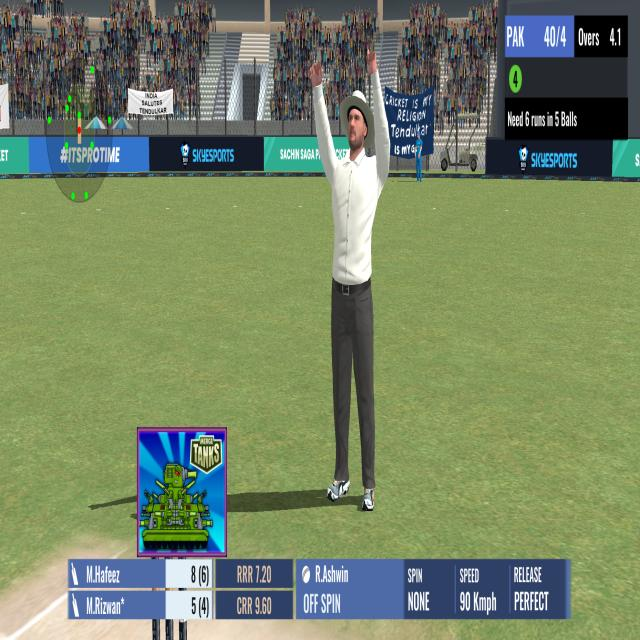billboard: (136, 423, 229, 559)
